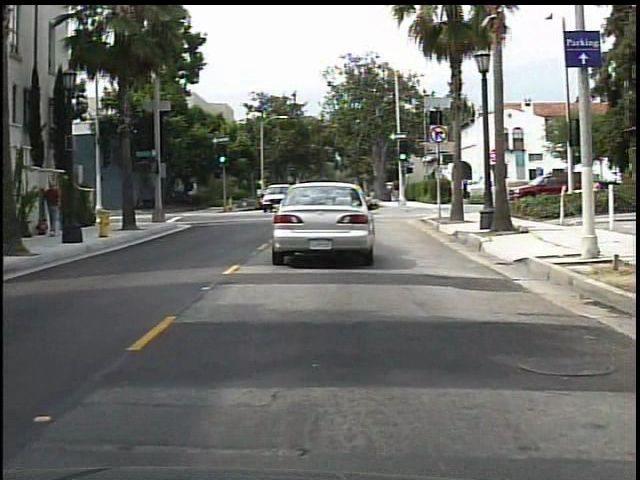person: (40, 177, 67, 242)
